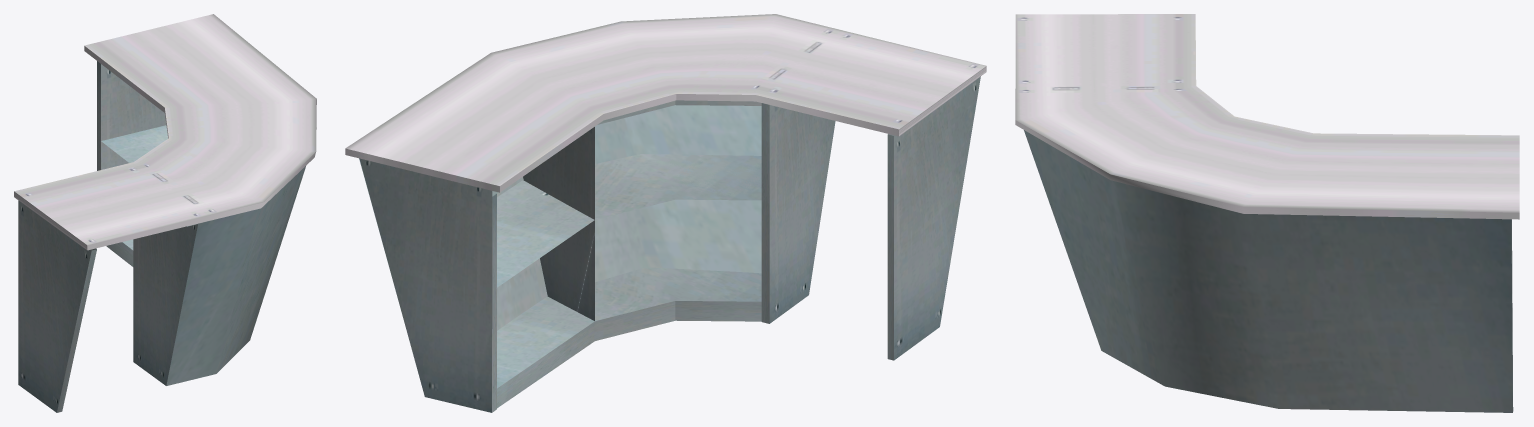
The model's file is frn_bar_piece_curve_s1_l1.fbx.
The picture shows the model from 3 angles, left to right: view 1: azimuth 30°, elevation 25°; view 2: azimuth 150°, elevation 25°; view 3: azimuth 270°, elevation 25°; orthographic projection. The views are drawn at different scales.
Visible parts, largest first — view 1: mesh_node; view 2: mesh_node; view 3: mesh_node.
Part boxes in pixels (<box>): mesh_node: <box>14,14,316,412</box>; mesh_node: <box>345,14,986,412</box>; mesh_node: <box>1015,14,1519,412</box>.
Size of the model in its own units: 2.05 by 1.15 by 2.2.
